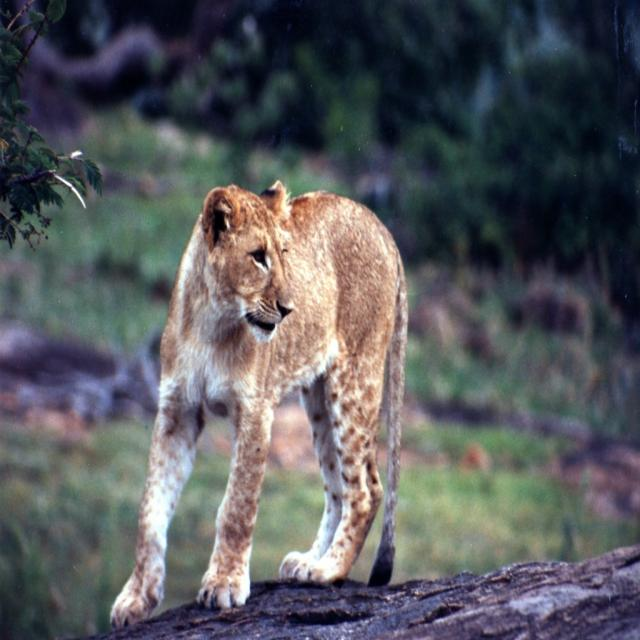Cheetah: (112, 156, 404, 624)
